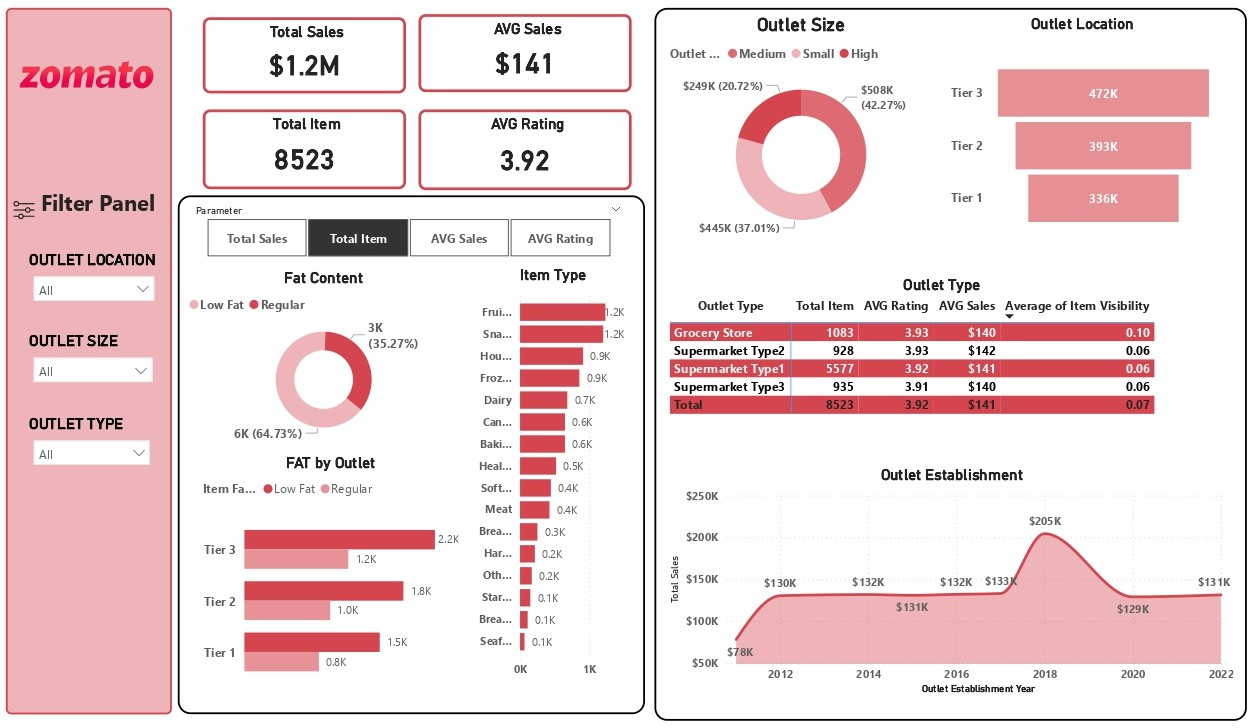

The dashboard page shown, as its layout file describes it:
{"tool":"powerbi","page":{"name":"Summary","canvas":[1400,800],"ordinal":0},"visuals":[{"type":"textbox","box":[199.8,217.1,515.1,572],"z":0},{"type":"textbox","box":[726,10.7,653.5,786.4],"z":1000},{"type":"textbox","box":[10.3,10.3,182.6,778.7],"z":2000},{"type":"slicer","title":"OUTLET LOCATION","fields":{"Values":["Blinkit.Outlet Location Type"]},"box":[31,276.9,152.8,68.7],"z":3000},{"type":"slicer","title":"OUTLET SIZE","fields":{"Values":["Blinkit.Outlet Size"]},"box":[31,367.7,150.6,66.5],"z":4000},{"type":"slicer","title":"OUTLET TYPE","fields":{"Values":["Blinkit.Outlet Type"]},"box":[31,458.5,148.4,66.5],"z":5000},{"type":"lineChart","title":"Outlet Establishment","fields":{"Category":["Blinkit.Outlet Establishment Year"],"Y":["Blinkit.Total Sales"]},"box":[737.1,515.7,631.3,257],"z":6000},{"type":"donutChart","title":"Outlet Size","fields":{"Category":["Blinkit.Outlet Size"],"Y":["Blinkit.Total Sales"]},"box":[737.1,17.3,299.1,257],"z":7000},{"type":"funnel","title":"Outlet Location","fields":{"Category":["Blinkit.Outlet Location Type"],"Y":["Blinkit.Total Sales"]},"box":[1047.2,17.3,299.1,270.3],"z":8000},{"type":"pivotTable","title":"Outlet Type","fields":{"Rows":["Blinkit.Outlet Type"],"Values":["Blinkit.Total Item","Blinkit.AVG Rating","Blinkit.AVG Sales","Avg(Blinkit.Item Visibility)"]},"box":[737.1,305.3,609.2,183.9],"z":9000},{"type":"slicer","fields":{"Values":["Parameter.Parameter"]},"box":[206.7,222.2,494,68.7],"z":10000},{"type":"image","box":[5.2,36.2,186.1,94.8],"z":11000},{"type":"textbox","box":[579.5,19,134.4,84.4],"z":12000},{"type":"card","title":"Total Sales","fields":{"Values":["Blinkit.Total Sales"]},"box":[228.2,19.9,223.7,84.2],"z":13000},{"type":"card","title":"AVG Sales","fields":{"Values":["Blinkit.AVG Sales"]},"box":[465.2,17.7,234.8,86.4],"z":14000},{"type":"card","title":"Total Item","fields":{"Values":["Blinkit.Total Item"]},"box":[227.4,122.3,224,87.9],"z":15000},{"type":"card","title":"AVG Rating","fields":{"Values":["Blinkit.AVG Rating"]},"box":[465.2,122.1,234.8,88.6],"z":16000},{"type":"donutChart","title":"Fat Content","fields":{"Y":["Blinkit.Total Item"],"Category":["Blinkit.Item Fat Content"]},"box":[206.7,297.6,307.9,194.9],"z":17000},{"type":"clusteredBarChart","title":"FAT by Outlet","fields":{"Y":["Blinkit.Total Item"],"Category":["Blinkit.Outlet Location Type"],"Series":["Blinkit.Item Fat Content"]},"box":[222.2,501.3,292.4,270.3],"z":18000},{"type":"barChart","title":"Item Type","fields":{"Y":["Blinkit.Total Item"],"Category":["Blinkit.Item Type"]},"box":[515.8,294.8,196.4,463.4],"z":19000},{"type":"image","box":[10.3,203.3,39.6,60.3],"z":20000}]}

Visuals, with their boxes in screenshot pixels (x1, y1, x2, y2), scaled from the page's 1400x800 canvas onto the 1253x728 screenshot:
textbox: <bbox>179, 198, 640, 718</bbox>
textbox: <bbox>650, 10, 1235, 725</bbox>
textbox: <bbox>9, 9, 173, 718</bbox>
"OUTLET LOCATION" slicer: <bbox>28, 252, 165, 314</bbox>
"OUTLET SIZE" slicer: <bbox>28, 335, 163, 395</bbox>
"OUTLET TYPE" slicer: <bbox>28, 417, 161, 478</bbox>
"Outlet Establishment" lineChart: <bbox>660, 469, 1225, 703</bbox>
"Outlet Size" donutChart: <bbox>660, 16, 927, 250</bbox>
"Outlet Location" funnel: <bbox>937, 16, 1205, 262</bbox>
"Outlet Type" pivotTable: <bbox>660, 278, 1205, 445</bbox>
slicer - Parameter.Parameter: <bbox>185, 202, 627, 265</bbox>
image: <bbox>5, 33, 171, 119</bbox>
textbox: <bbox>519, 17, 639, 94</bbox>
"Total Sales" card: <bbox>204, 18, 404, 95</bbox>
"AVG Sales" card: <bbox>416, 16, 626, 95</bbox>
"Total Item" card: <bbox>204, 111, 404, 191</bbox>
"AVG Rating" card: <bbox>416, 111, 626, 192</bbox>
"Fat Content" donutChart: <bbox>185, 271, 461, 448</bbox>
"FAT by Outlet" clusteredBarChart: <bbox>199, 456, 461, 702</bbox>
"Item Type" barChart: <bbox>462, 268, 637, 690</bbox>
image: <bbox>9, 185, 45, 240</bbox>
